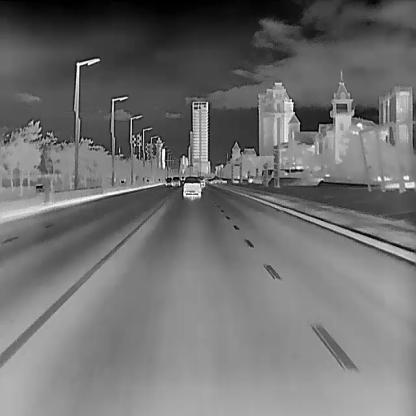car: (182, 176, 200, 198), (198, 175, 204, 187), (163, 177, 171, 185), (172, 176, 178, 186)
